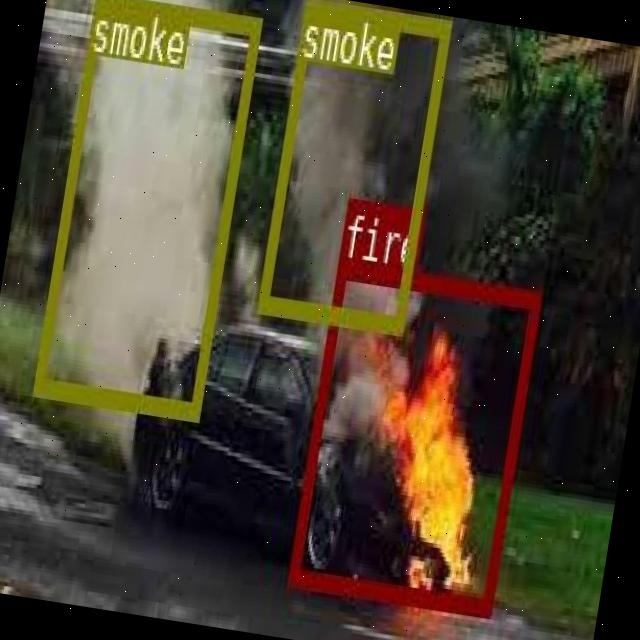fire: (288, 259, 542, 615)
smoke: (32, 0, 261, 416), (256, 0, 449, 328)
